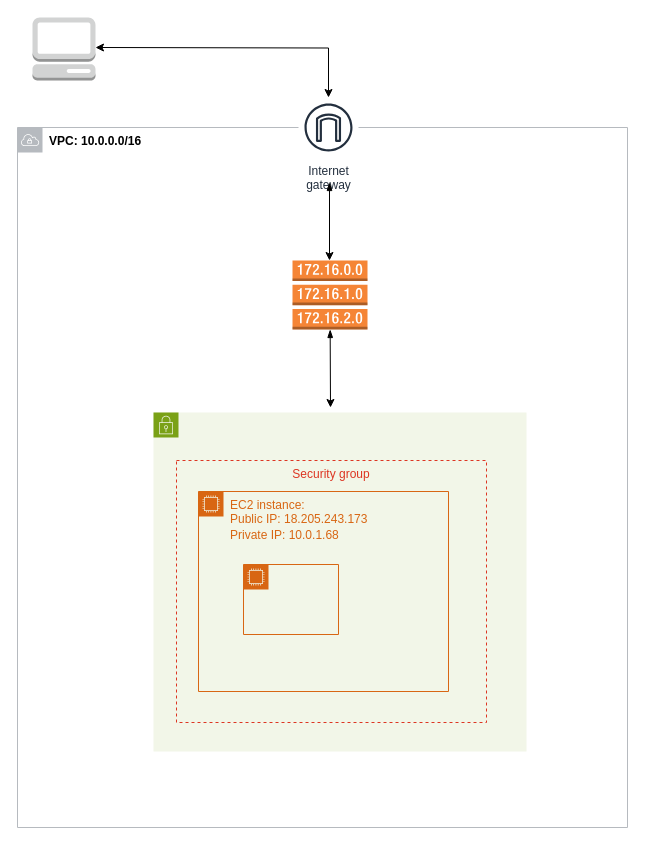
This 645x845 diagram has some shape labels left out. Here are the shapes that lost their labels. From the top down, the box of each, then its label:
(242, 564, 338, 634): NGINX:80
(152, 412, 526, 752): Public subnet: 10.0.1.0/24
